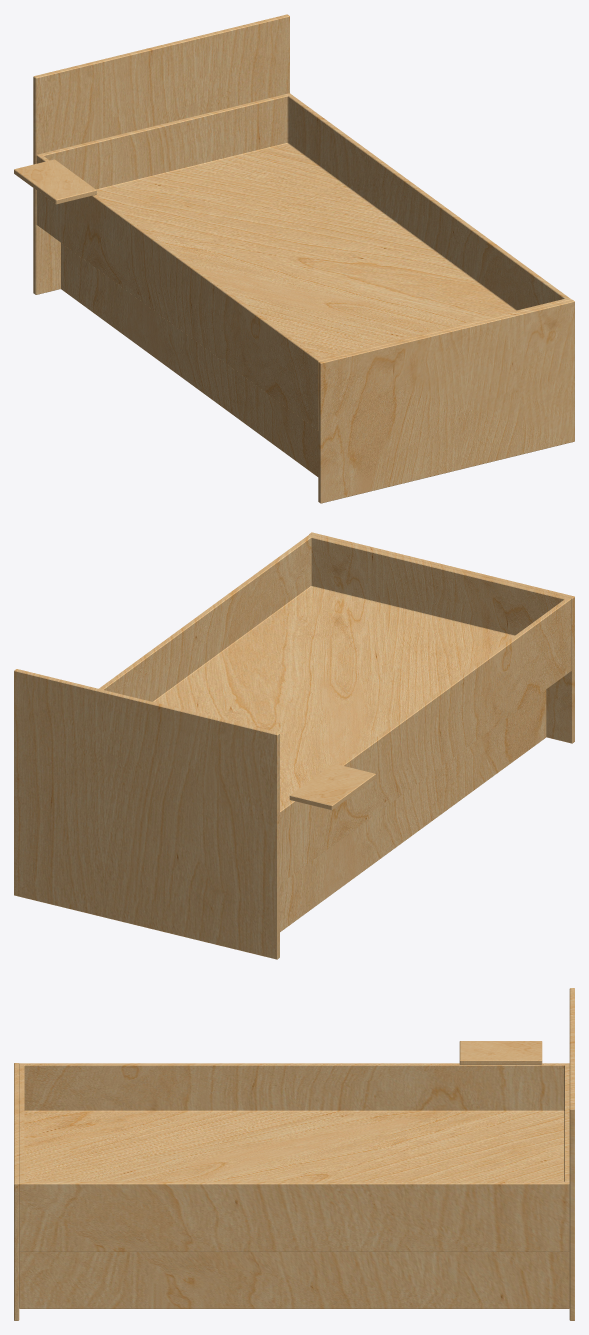
File: bedwood.gltf
3 views of the same model, one above another, from view 1: azimuth 30°, elevation 25°; view 2: azimuth 150°, elevation 25°; view 3: azimuth 270°, elevation 25° (orthographic). The views are drawn at different scales.
Parts seen in each view (by area): view 1: bedwood; view 2: bedwood; view 3: bedwood.
Part boxes in pixels (x1=…): bedwood: x1=14, y1=14, x2=574, y2=503; bedwood: x1=14, y1=532, x2=574, y2=959; bedwood: x1=14, y1=988, x2=574, y2=1320.
Size of the model in its own units: 119 by 85 by 204.
Materials: 1 (1 with a texture image).
